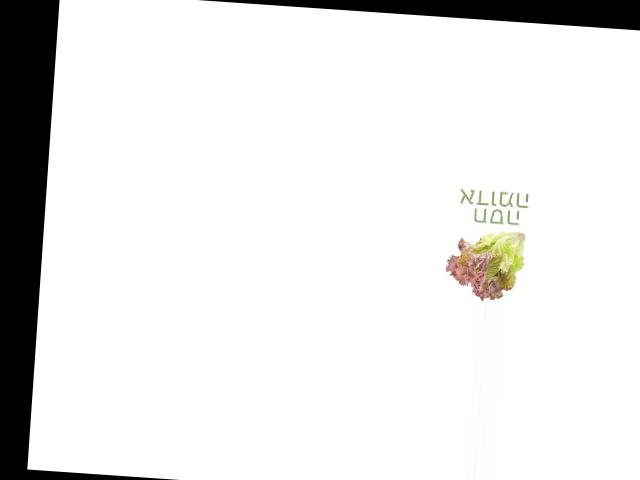lettuce: (442, 224, 534, 304)
